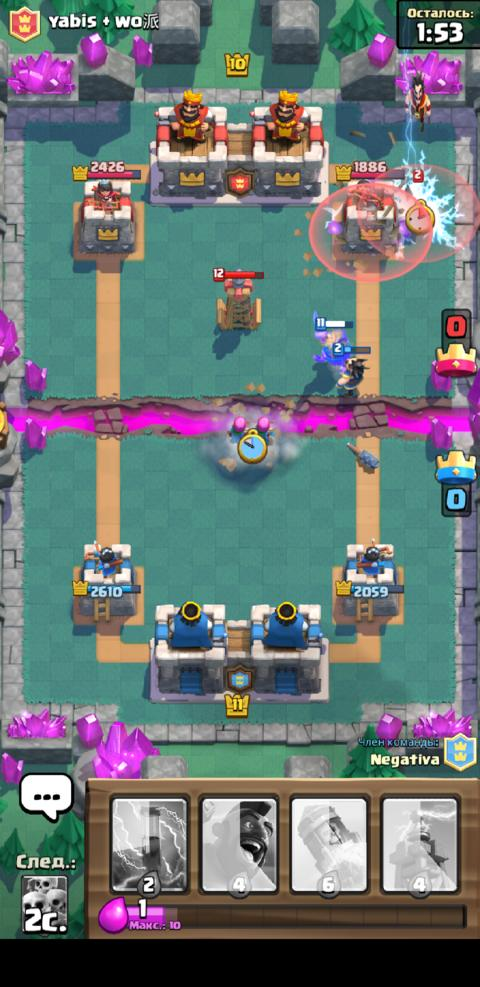ally_archer: (225, 414, 251, 445), (251, 416, 276, 446)
ally_electro_wizard: (331, 342, 372, 399)
ally_knight: (311, 306, 353, 365)
enemy_electro_wizard: (404, 62, 431, 133)
enemy_tesla: (210, 265, 265, 333)
